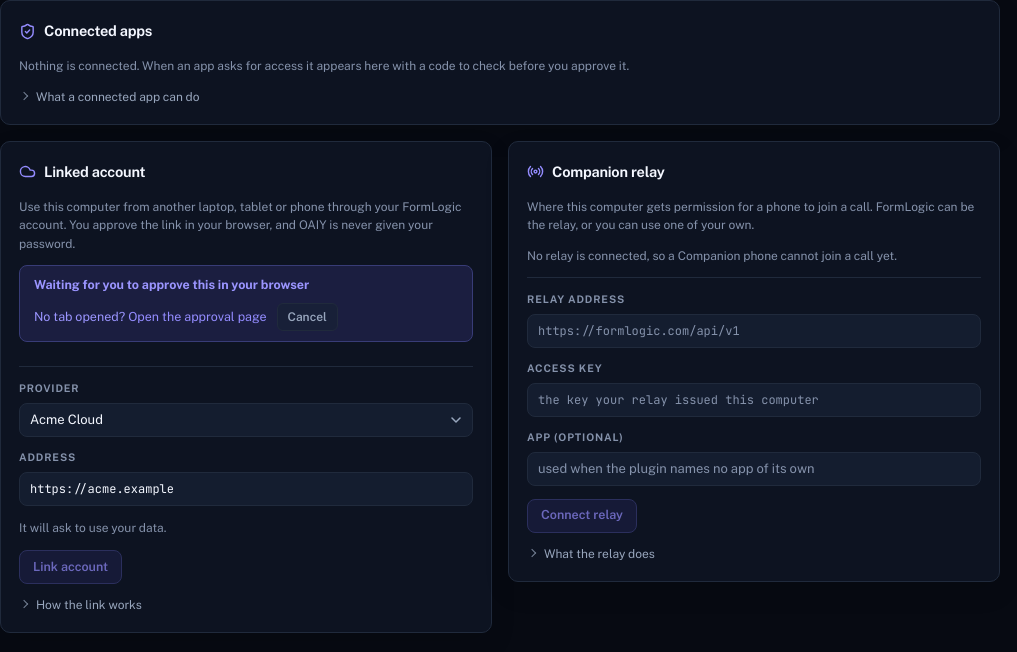
Test: ConnectionsPanel · Linked account › lets the user cancel while waiting on the browser
The width and height of the screenshot is (1017, 652).
Click the button "Cancel" at (307, 317), box [277,303,338,331]
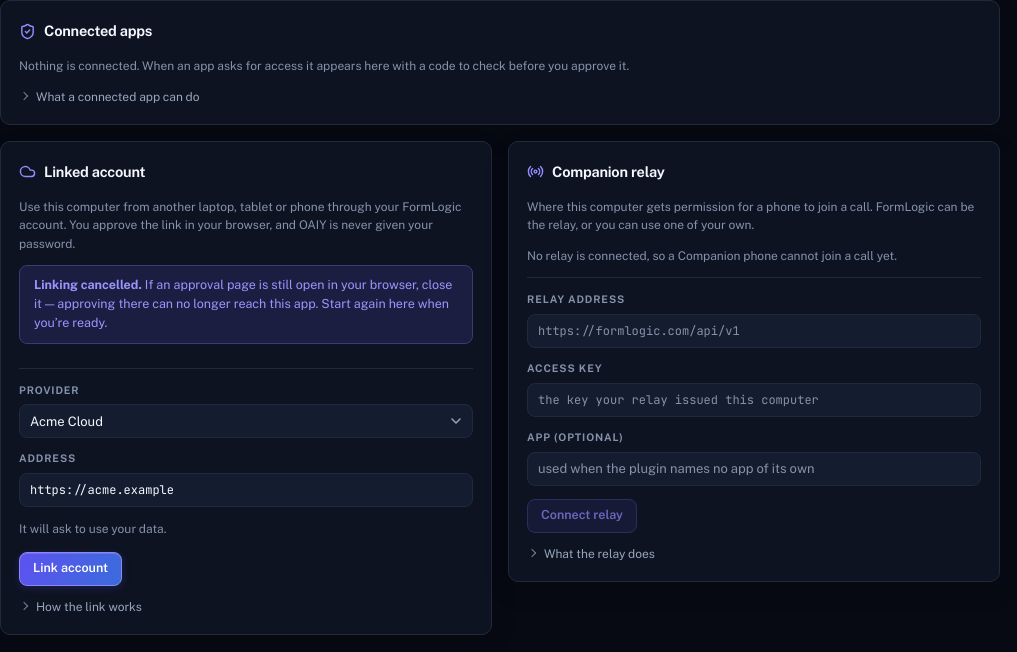
Now the text "Linking cancelled" is shown, box [34,277,142,292]
Now the text "close it" is shown, box [34,277,452,330]
